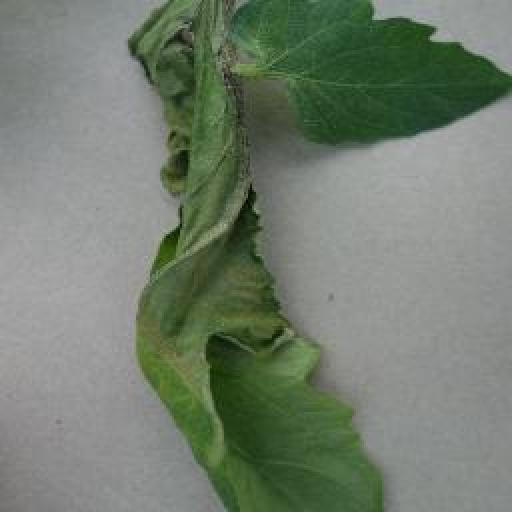disease_tomato: (129, 0, 384, 512)
